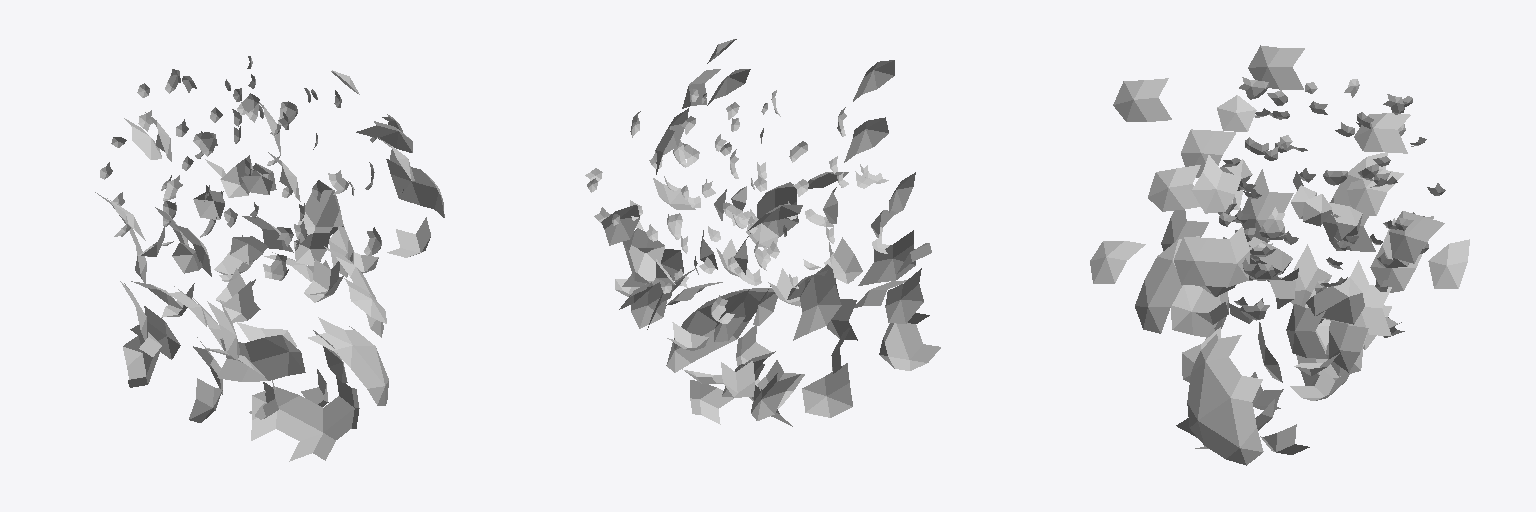
Rendered from azuki_unarmed_exploding_000008.obj.
The picture shows the model from 3 angles: view 1: azimuth 30°, elevation 25°; view 2: azimuth 150°, elevation 25°; view 3: azimuth 270°, elevation 25°; orthographic projection.
Visible parts, largest first — view 1: Body_Icosphere.001, Leg.R_Icosphere.002, Leg.L_Icosphere.005, Eye.L_Icosphere.006, Eye.R_Icosphere.004; view 2: Body_Icosphere.001, Leg.L_Icosphere.005, Leg.R_Icosphere.002, Eye.R_Icosphere.004, Eye.L_Icosphere.006; view 3: Body_Icosphere.001, Leg.R_Icosphere.002, Eye.R_Icosphere.004, Eye.L_Icosphere.006, Leg.L_Icosphere.005.
Part boxes in pixels (x1,y1,x2,y2): Body_Icosphere.001: (95,70,444,461); Leg.R_Icosphere.002: (193,155,430,406); Leg.L_Icosphere.005: (123,163,343,419); Eye.L_Icosphere.006: (100,69,322,281); Eye.R_Icosphere.004: (195,56,403,269); Body_Icosphere.001: (601,39,931,426); Leg.L_Icosphere.005: (700,187,940,408); Leg.R_Icosphere.002: (615,178,800,424); Eye.R_Icosphere.004: (585,88,808,293); Eye.L_Icosphere.006: (664,90,889,323); Body_Icosphere.001: (1090,45,1469,465); Leg.R_Icosphere.002: (1196,185,1409,454); Eye.R_Icosphere.004: (1219,101,1433,323); Eye.L_Icosphere.006: (1222,77,1445,280); Leg.L_Icosphere.005: (1218,159,1404,409).
Bounding box in the file's own units: 4.34 × 5.15 × 4.73.